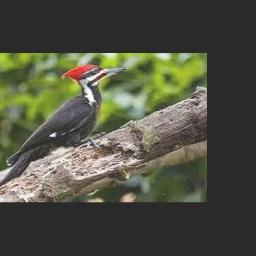Woodpecker: (0, 64, 128, 190)
